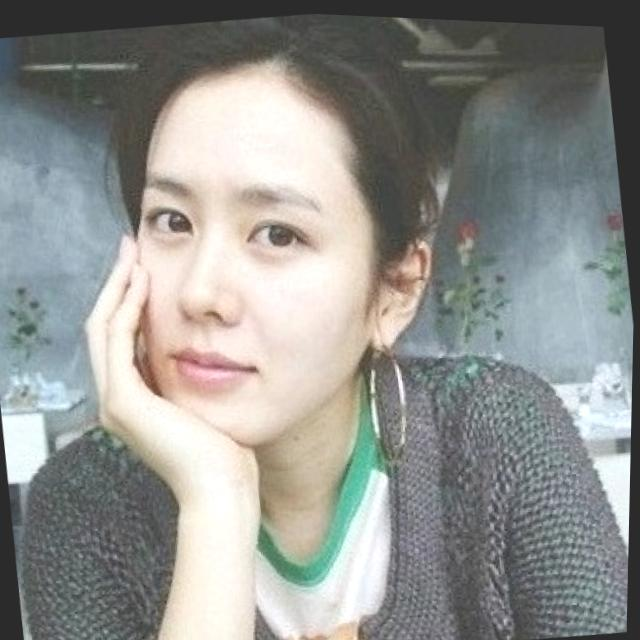face: (114, 52, 391, 448)
